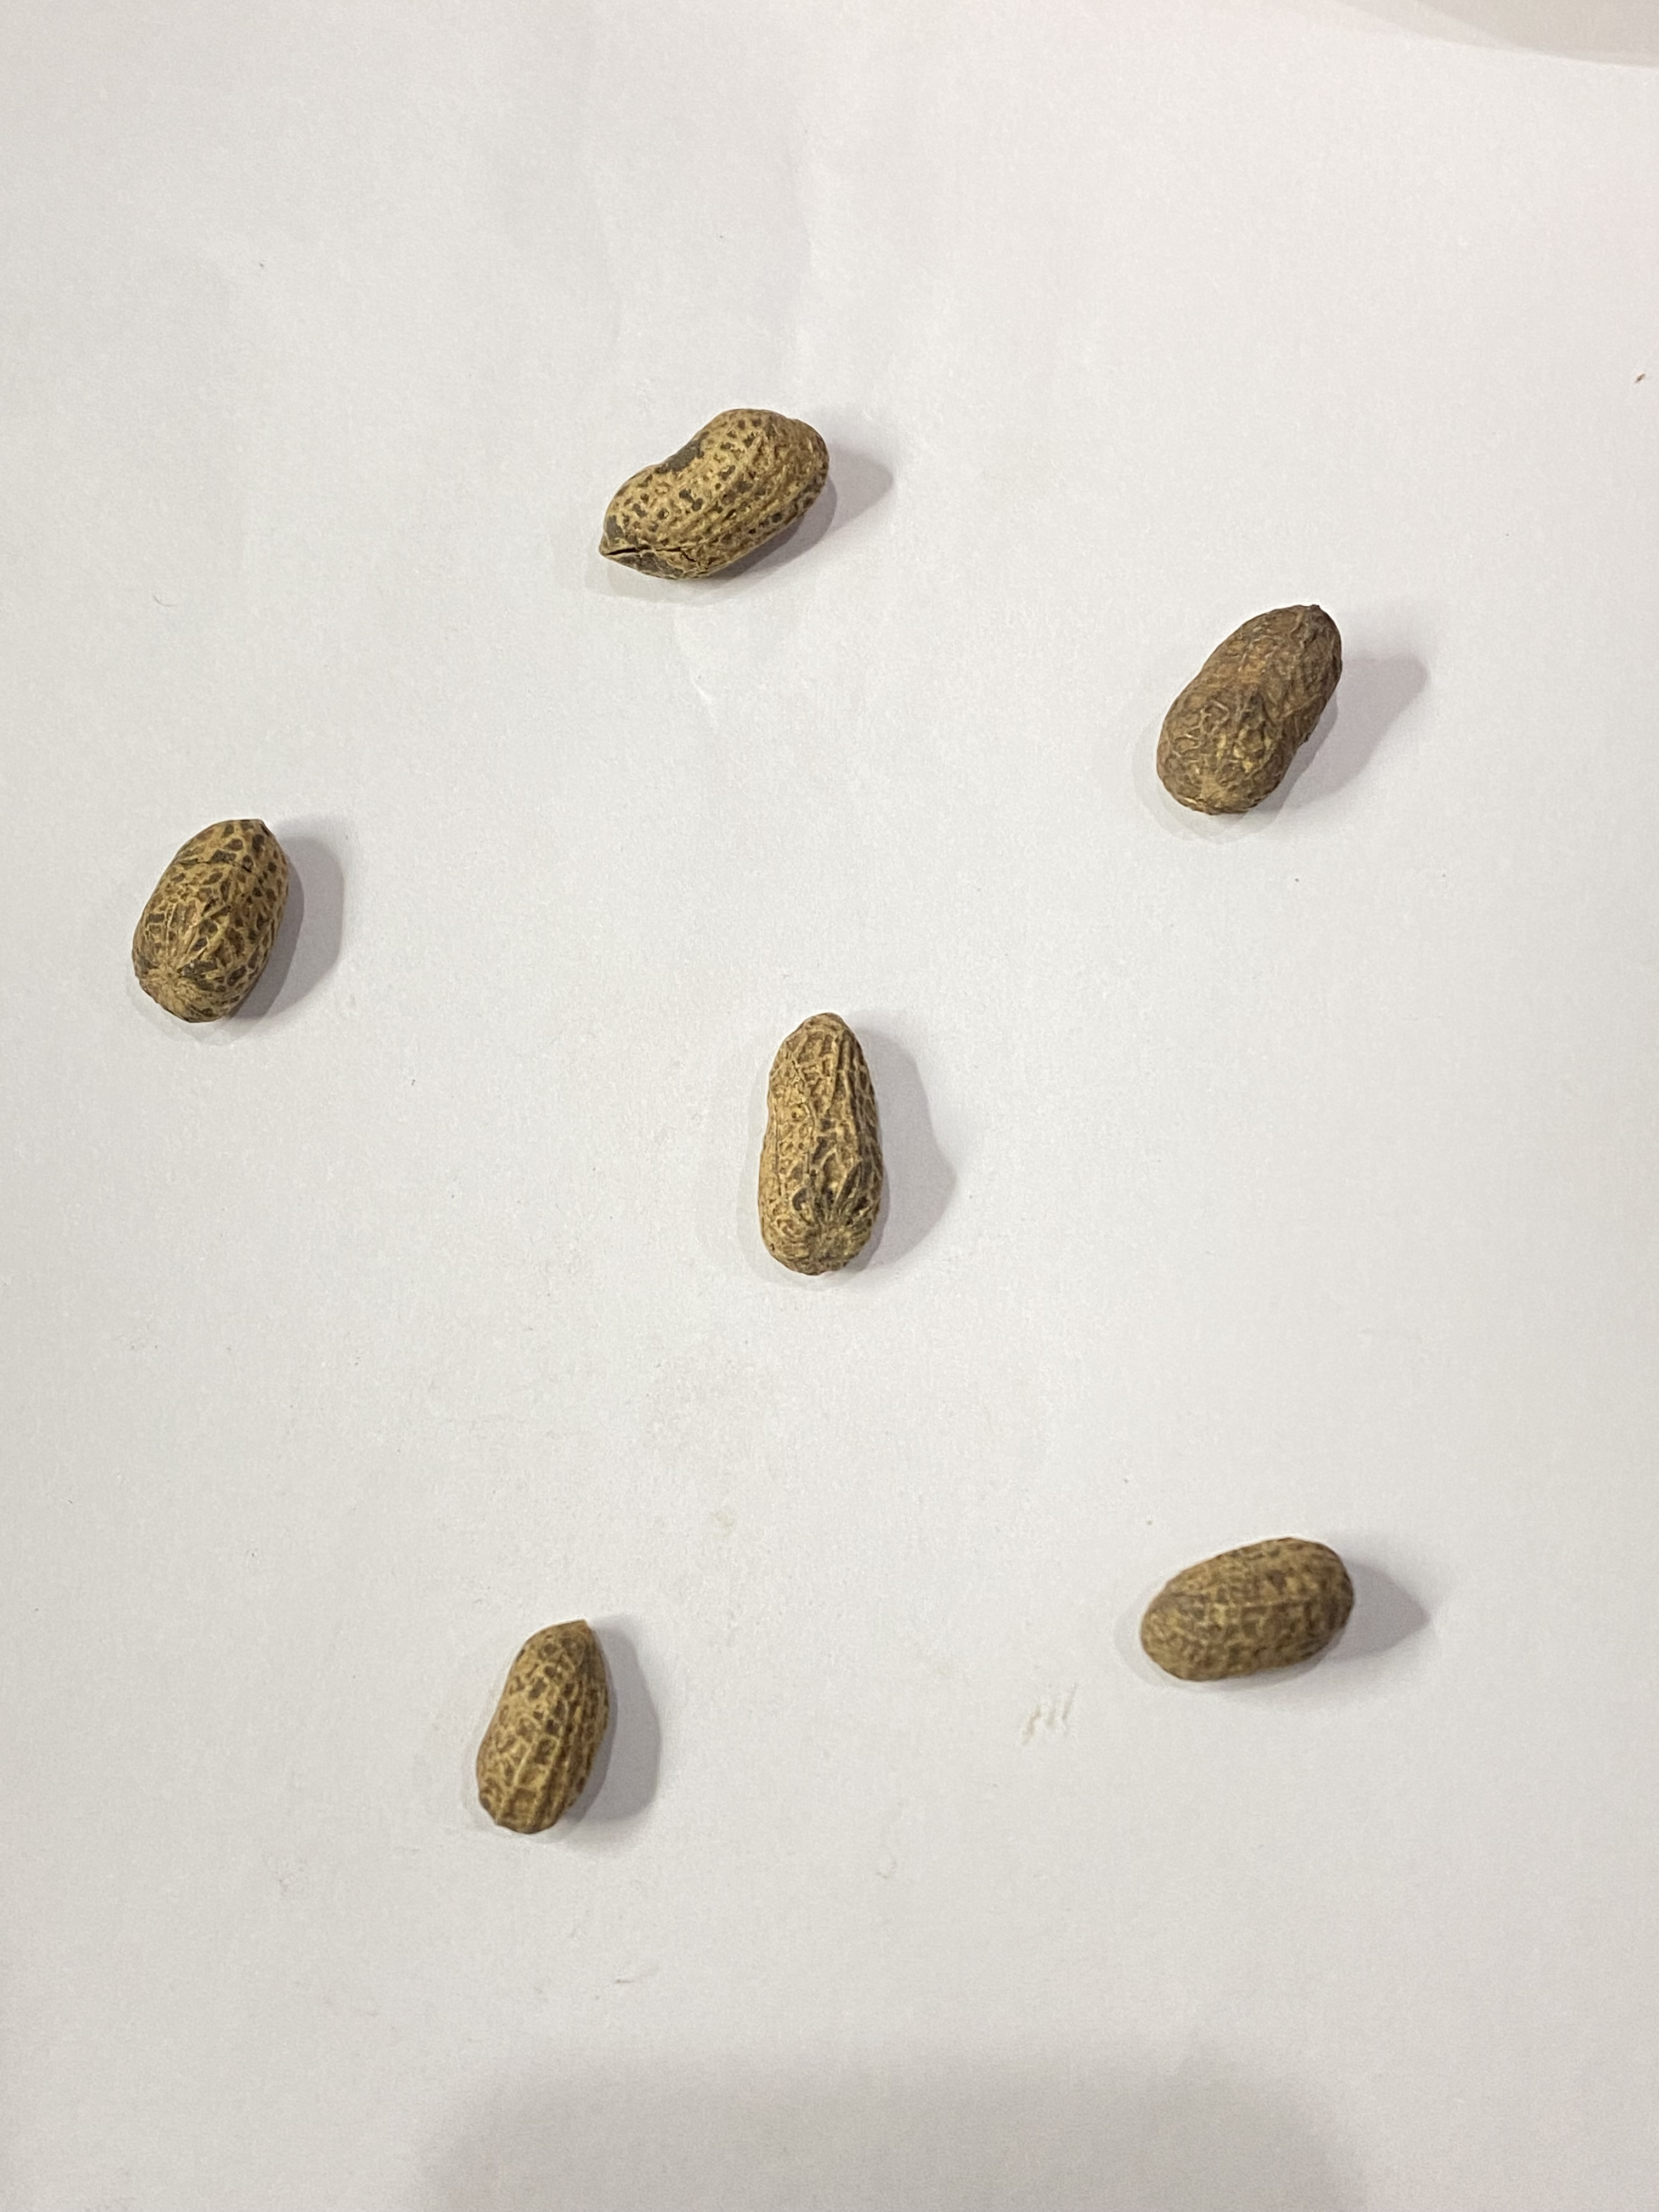kacang1: (132, 815, 310, 1024), (1140, 1538, 1363, 1683)
kacang2: (1154, 603, 1356, 824), (598, 409, 831, 585), (760, 1010, 892, 1273), (471, 1613, 615, 1832)
